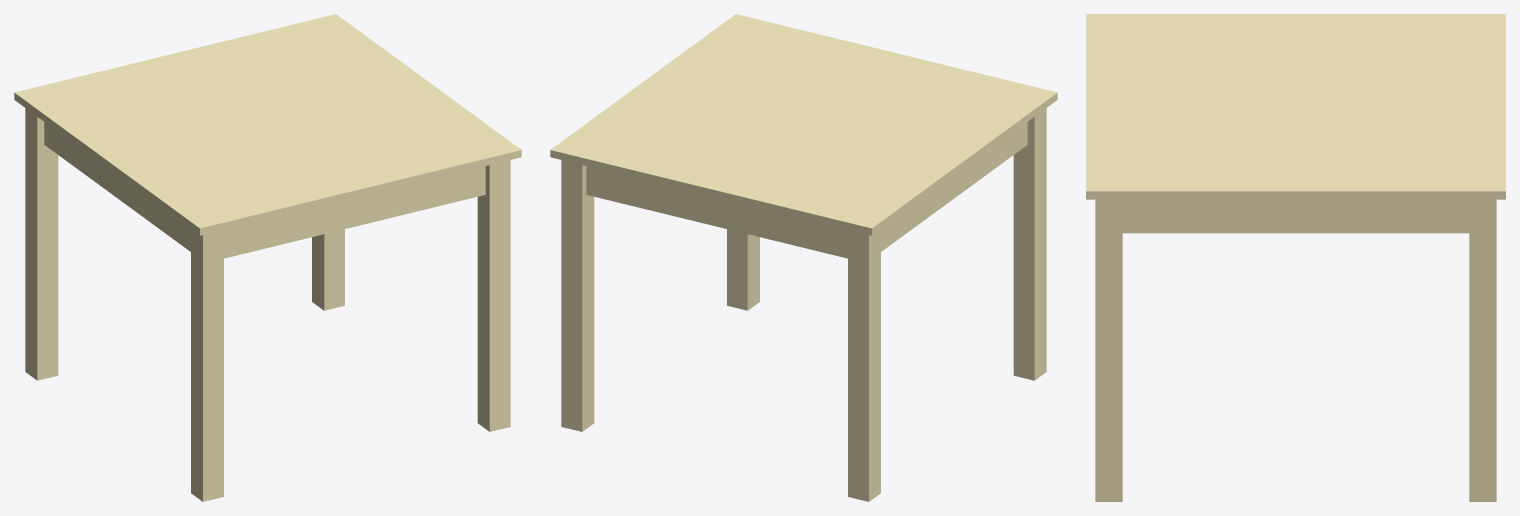
3 renders of one model, left to right at view 1: azimuth 30°, elevation 25°; view 2: azimuth 150°, elevation 25°; view 3: azimuth 270°, elevation 25°, orthographic. The views are drawn at different scales.
Visible parts, largest first — view 1: Mesh2 ingo_table_top_1_1 ingo_side_table1 Model, Mesh3 ingo_table_leg_1_2 ingo_side_table1 Model, Mesh4 ingo_table_leg_1_3 ingo_side_table1 Model, Mesh1 ingo_table_leg_1_1 ingo_side_table1 Model, Mesh5 ingo_table_leg_1_4 ingo_side_table1 Model; view 2: Mesh2 ingo_table_top_1_1 ingo_side_table1 Model, Mesh1 ingo_table_leg_1_1 ingo_side_table1 Model, Mesh5 ingo_table_leg_1_4 ingo_side_table1 Model, Mesh3 ingo_table_leg_1_2 ingo_side_table1 Model, Mesh4 ingo_table_leg_1_3 ingo_side_table1 Model; view 3: Mesh2 ingo_table_top_1_1 ingo_side_table1 Model, Mesh4 ingo_table_leg_1_3 ingo_side_table1 Model, Mesh5 ingo_table_leg_1_4 ingo_side_table1 Model.
Boxes of the visible parts, left/top/right/bottom form: Mesh2 ingo_table_top_1_1 ingo_side_table1 Model: left=14, top=14, right=521, bottom=235; Mesh3 ingo_table_leg_1_2 ingo_side_table1 Model: left=121, top=178, right=352, bottom=501; Mesh4 ingo_table_leg_1_3 ingo_side_table1 Model: left=352, top=160, right=510, bottom=431; Mesh1 ingo_table_leg_1_1 ingo_side_table1 Model: left=25, top=108, right=120, bottom=380; Mesh5 ingo_table_leg_1_4 ingo_side_table1 Model: left=312, top=229, right=344, bottom=310; Mesh2 ingo_table_top_1_1 ingo_side_table1 Model: left=550, top=14, right=1057, bottom=235; Mesh1 ingo_table_leg_1_1 ingo_side_table1 Model: left=719, top=178, right=950, bottom=501; Mesh5 ingo_table_leg_1_4 ingo_side_table1 Model: left=561, top=160, right=719, bottom=431; Mesh3 ingo_table_leg_1_2 ingo_side_table1 Model: left=951, top=108, right=1046, bottom=380; Mesh4 ingo_table_leg_1_3 ingo_side_table1 Model: left=727, top=229, right=759, bottom=310; Mesh2 ingo_table_top_1_1 ingo_side_table1 Model: left=1086, top=14, right=1505, bottom=199; Mesh4 ingo_table_leg_1_3 ingo_side_table1 Model: left=1095, top=199, right=1295, bottom=501; Mesh5 ingo_table_leg_1_4 ingo_side_table1 Model: left=1296, top=199, right=1496, bottom=501.
Size of the model in its own units: 0.6106 by 0.5044 by 0.6106.
